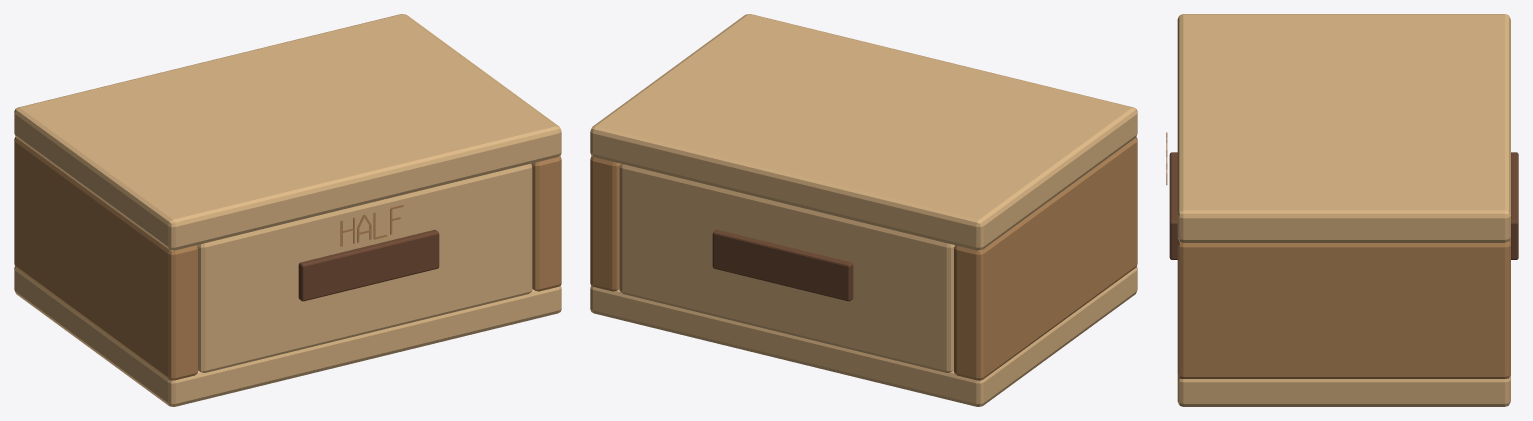
Rendered from P069_apple_box.glb.
The picture shows the model from 3 angles, left to right: view 1: azimuth 30°, elevation 25°; view 2: azimuth 150°, elevation 25°; view 3: azimuth 270°, elevation 25°; orthographic projection. The views are drawn at different scales.
Parts seen in each view (by area): view 1: P069_top_002, P069_side_wall_005, P069_end_wall_003, P069_bottom_001, P069_handle_hole_006, P069_end_wall_004, P069_size_009; view 2: P069_top_002, P069_side_wall_007, P069_end_wall_003, P069_bottom_001, P069_handle_hole_008, P069_end_wall_004; view 3: P069_top_002, P069_end_wall_004, P069_bottom_001, P069_handle_hole_006, P069_handle_hole_008.
Boxes of the visible parts, box(x1,y1,x2,y2) form: P069_top_002: box(14, 14, 561, 250); P069_side_wall_005: box(197, 163, 532, 372); P069_end_wall_003: box(14, 137, 197, 380); P069_bottom_001: box(14, 266, 561, 406); P069_handle_hole_006: box(298, 229, 439, 301); P069_end_wall_004: box(531, 156, 561, 291); P069_size_009: box(340, 204, 403, 246); P069_top_002: box(590, 14, 1137, 250); P069_side_wall_007: box(619, 163, 954, 372); P069_end_wall_003: box(954, 137, 1137, 380); P069_bottom_001: box(590, 266, 1137, 406); P069_handle_hole_008: box(712, 229, 853, 301); P069_end_wall_004: box(590, 156, 620, 291); P069_top_002: box(1177, 14, 1510, 242); P069_end_wall_004: box(1177, 237, 1510, 378); P069_bottom_001: box(1177, 375, 1510, 406); P069_handle_hole_006: box(1169, 152, 1177, 259); P069_handle_hole_008: box(1511, 152, 1518, 259).
Size of the model in its own units: 0.4 by 0.182 by 0.2959.
